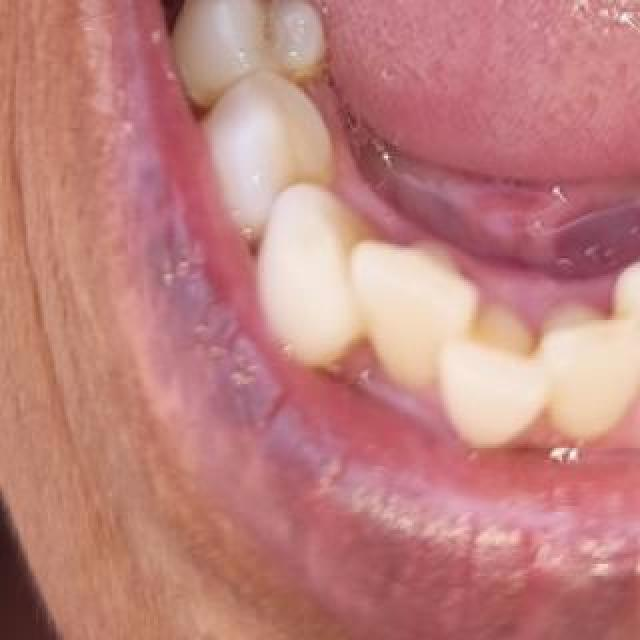maligned: (445, 300, 567, 494), (340, 232, 460, 376), (542, 292, 640, 438), (174, 0, 330, 86), (620, 254, 640, 414)
